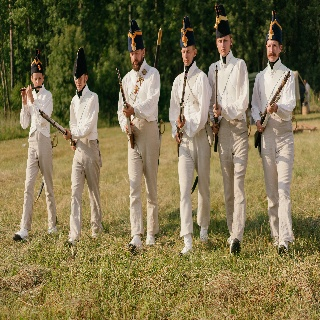rifle: (253, 71, 290, 149), (114, 67, 140, 150), (36, 107, 80, 151), (176, 65, 189, 157), (211, 64, 223, 154)
